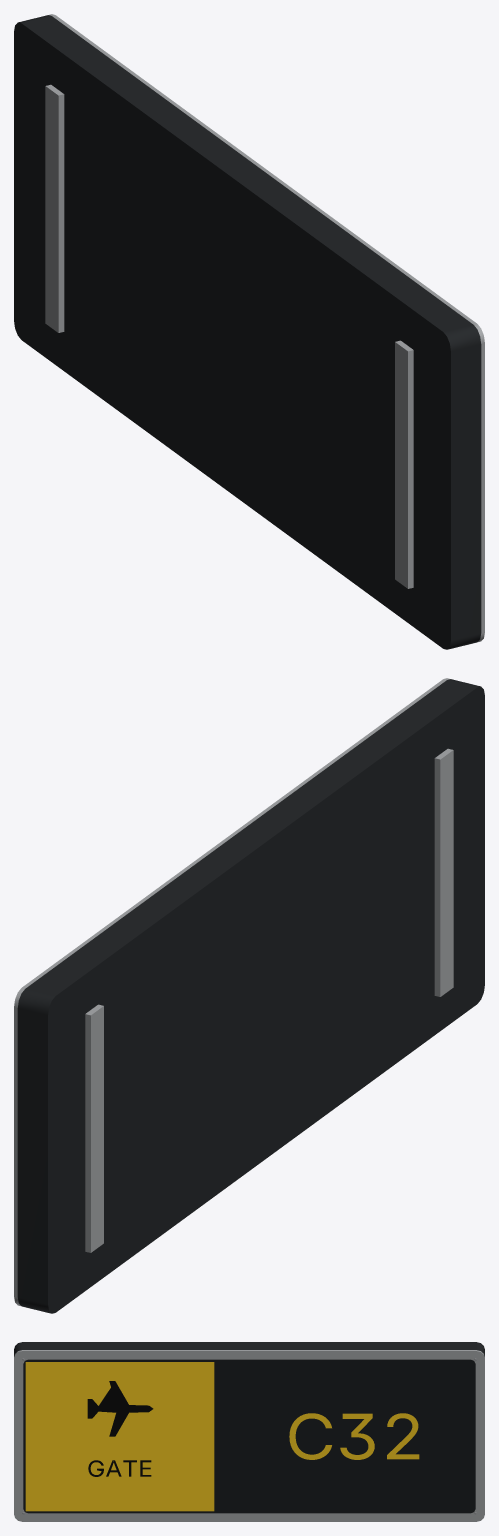
Rendered from gate_sign_c32.glb.
3 renders of one model, top to bottom at view 1: azimuth 30°, elevation 25°; view 2: azimuth 150°, elevation 25°; view 3: azimuth 270°, elevation 25°, orthographic. The views are drawn at different scales.
Visible parts, largest first — view 1: gateschild_1, gateschild_0; view 2: gateschild_1, gateschild_0; view 3: gateschild_2, gateschild_3, gateschild_0, gateschild_1, nummer, gateschild_4, gate.
Part boxes in pixels (x1=…): gateschild_1: x1=14, y1=15, x2=481, y2=649; gateschild_0: x1=45, y1=14, x2=484, y2=641; gateschild_1: x1=17, y1=679, x2=484, y2=1313; gateschild_0: x1=14, y1=678, x2=453, y2=1305; gateschild_2: x1=23, y1=1359, x2=475, y2=1513; gateschild_3: x1=25, y1=1362, x2=214, y2=1511; gateschild_0: x1=14, y1=1350, x2=484, y2=1521; gateschild_1: x1=14, y1=1342, x2=484, y2=1356; nummer: x1=289, y1=1413, x2=419, y2=1459; gateschild_4: x1=87, y1=1381, x2=153, y2=1436; gate: x1=88, y1=1460, x2=151, y2=1476.
Size of the model in its own units: 0.1077 by 0.8 by 2.
